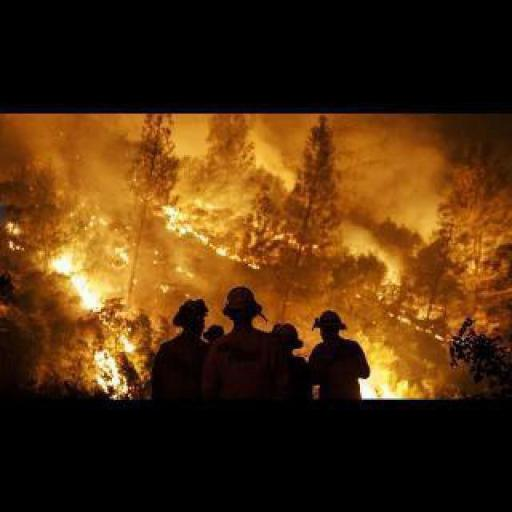smoke: (38, 170, 468, 398)
